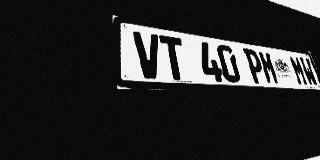0: (216, 44, 241, 83)
4: (197, 41, 224, 82)
M: (257, 50, 280, 84), (288, 55, 309, 86)
P: (243, 48, 267, 84)
T: (159, 35, 188, 80)
V: (133, 31, 164, 79)
W: (299, 57, 319, 86)
